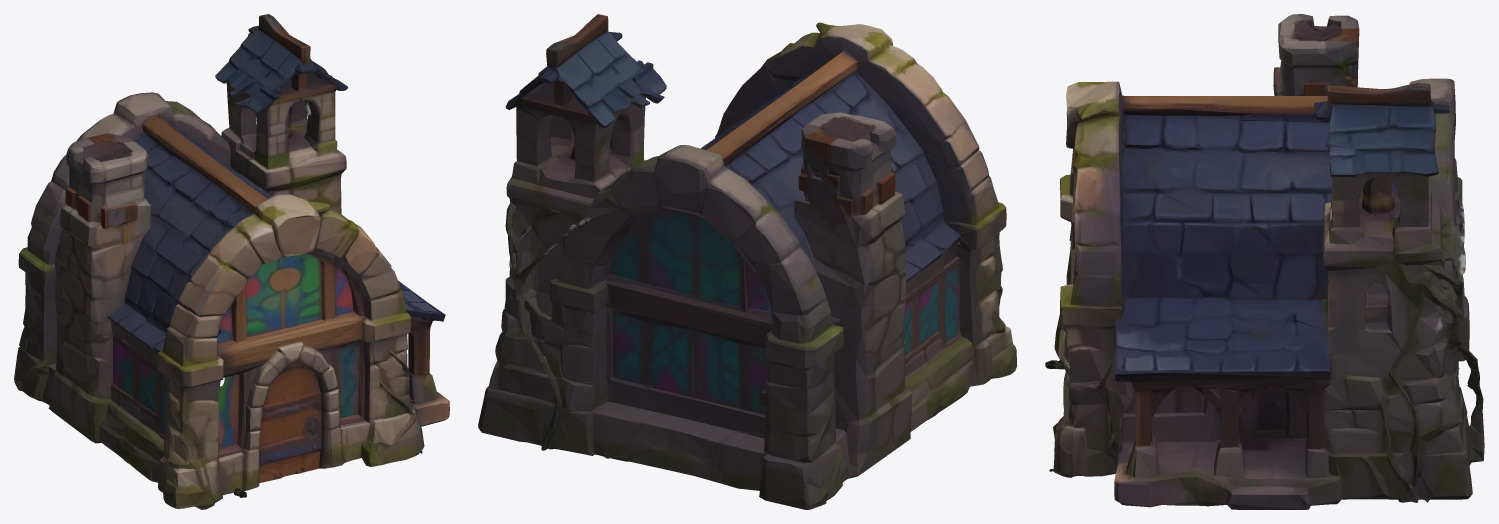
Rendered from library.glb.
3 views of the same model, side by side, from view 1: azimuth 30°, elevation 25°; view 2: azimuth 150°, elevation 25°; view 3: azimuth 270°, elevation 25° (orthographic). The views are drawn at different scales.
Parts seen in each view (by area): view 1: world; view 2: world; view 3: world.
Boxes of the visible parts, <box> form: world: <box>14,14,449,509</box>; world: <box>478,14,1016,509</box>; world: <box>1045,14,1484,509</box>.
Size of the model in its own units: 0.9309 by 0.952 by 0.9599.
Materials: 1 (1 with a texture image).
